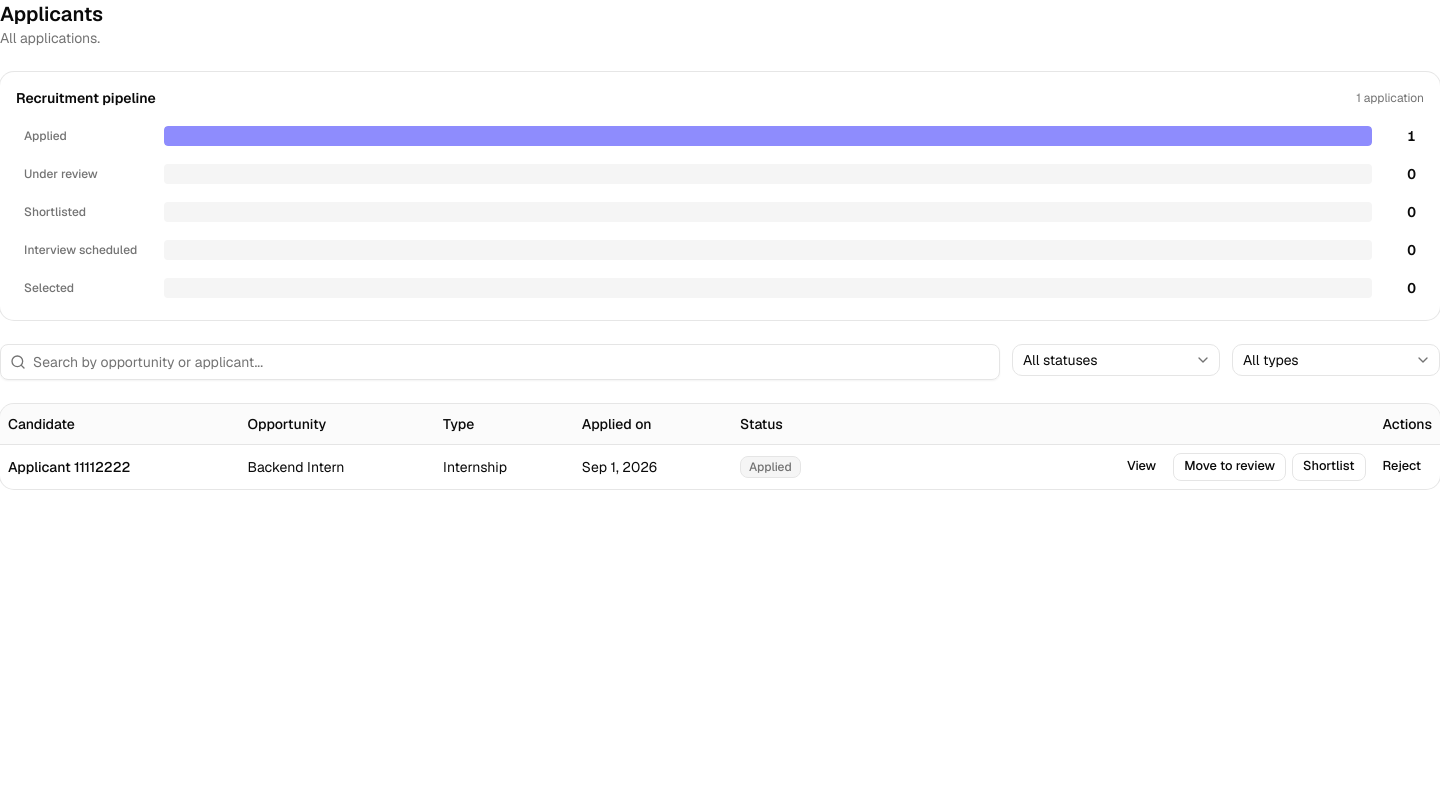
Test case: RecruitmentApplications › moves an application forward via the confirmation dialog and updates the funnel
What coordinates should you click on to do the following:
click the button "Shortlist"
I would click on:
 (1329, 466)
Its box is [1292,452,1366,480].
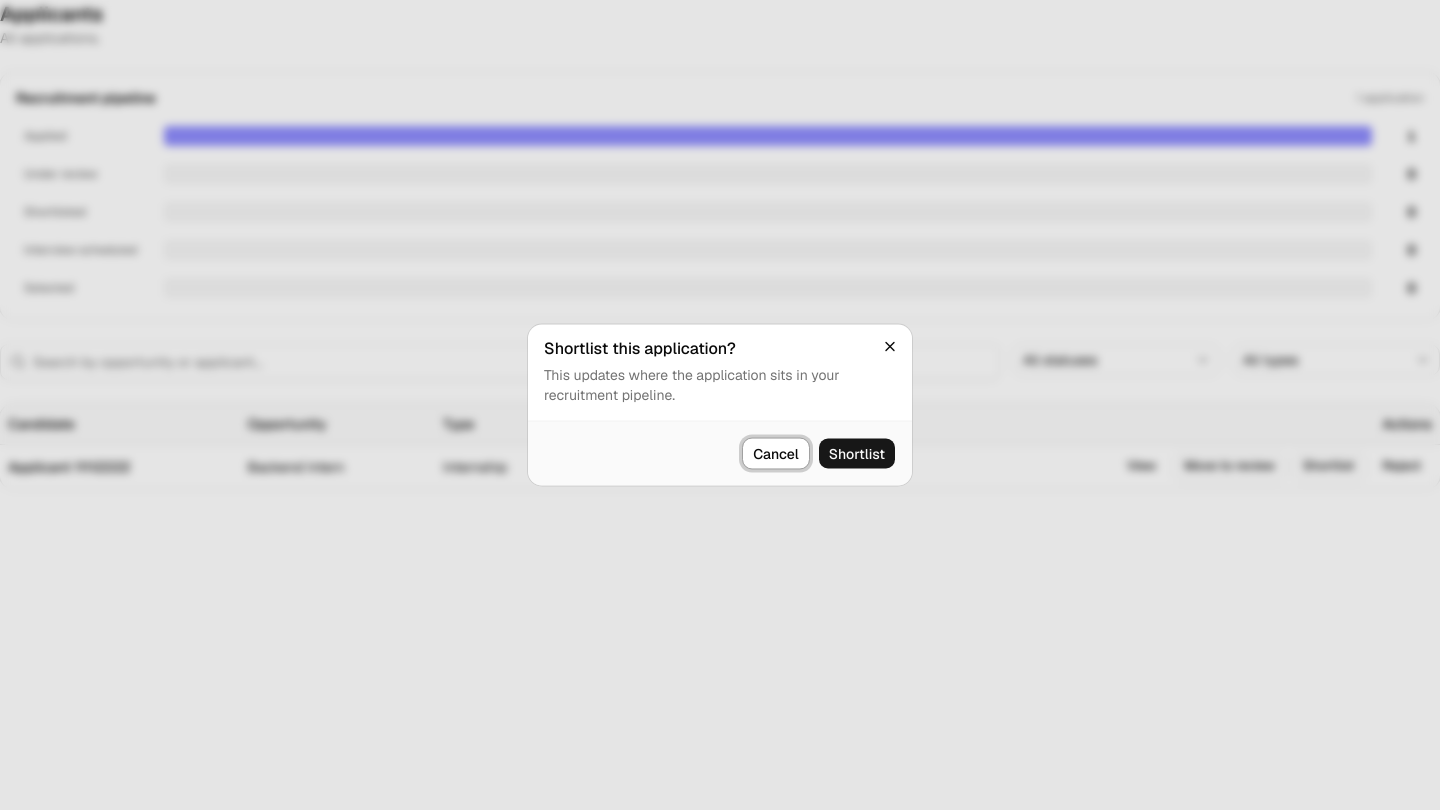
What coordinates should you click on to do the following:
click the button "Shortlist"
I would click on:
 (857, 454)
Its box is [818,438,896,470].
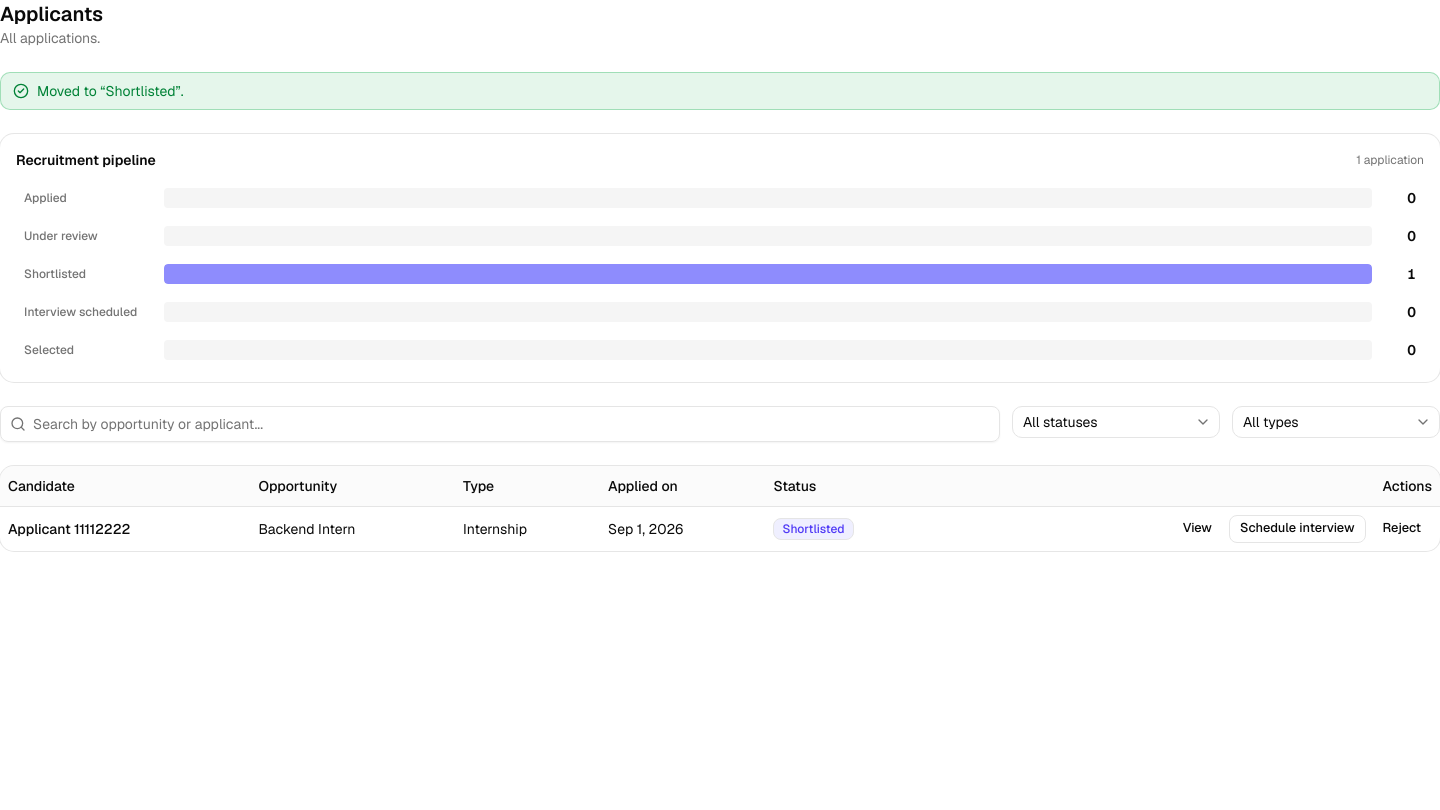
Check: the text "Moved to “Shortlisted”." is shown, box [37,81,184,101]
Check: the text "1" is shown, box [1407,265,1416,283]
